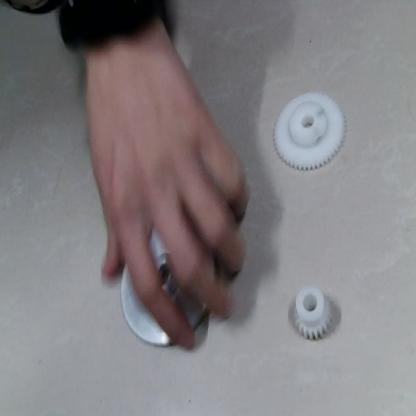FOD: (272, 87, 346, 176), (287, 288, 336, 344)
